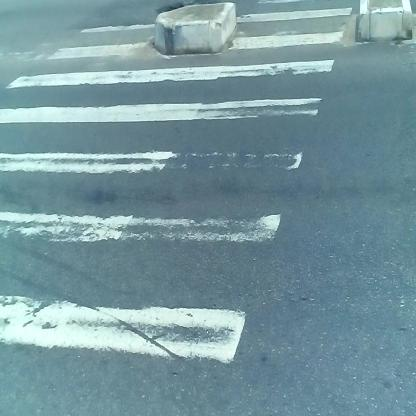crosswalk: (4, 4, 353, 401)
